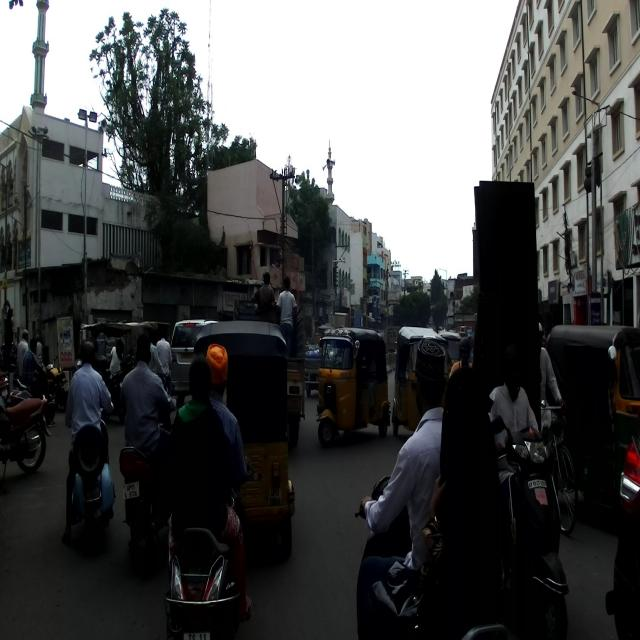autorickshaw: (192, 321, 296, 557), (546, 323, 639, 510), (316, 327, 392, 448), (391, 325, 450, 437)
motorcycle_Hero: (119, 402, 180, 576)
scooter: (353, 474, 508, 638), (491, 415, 570, 637), (160, 451, 253, 638), (66, 408, 117, 546), (9, 368, 56, 426)
